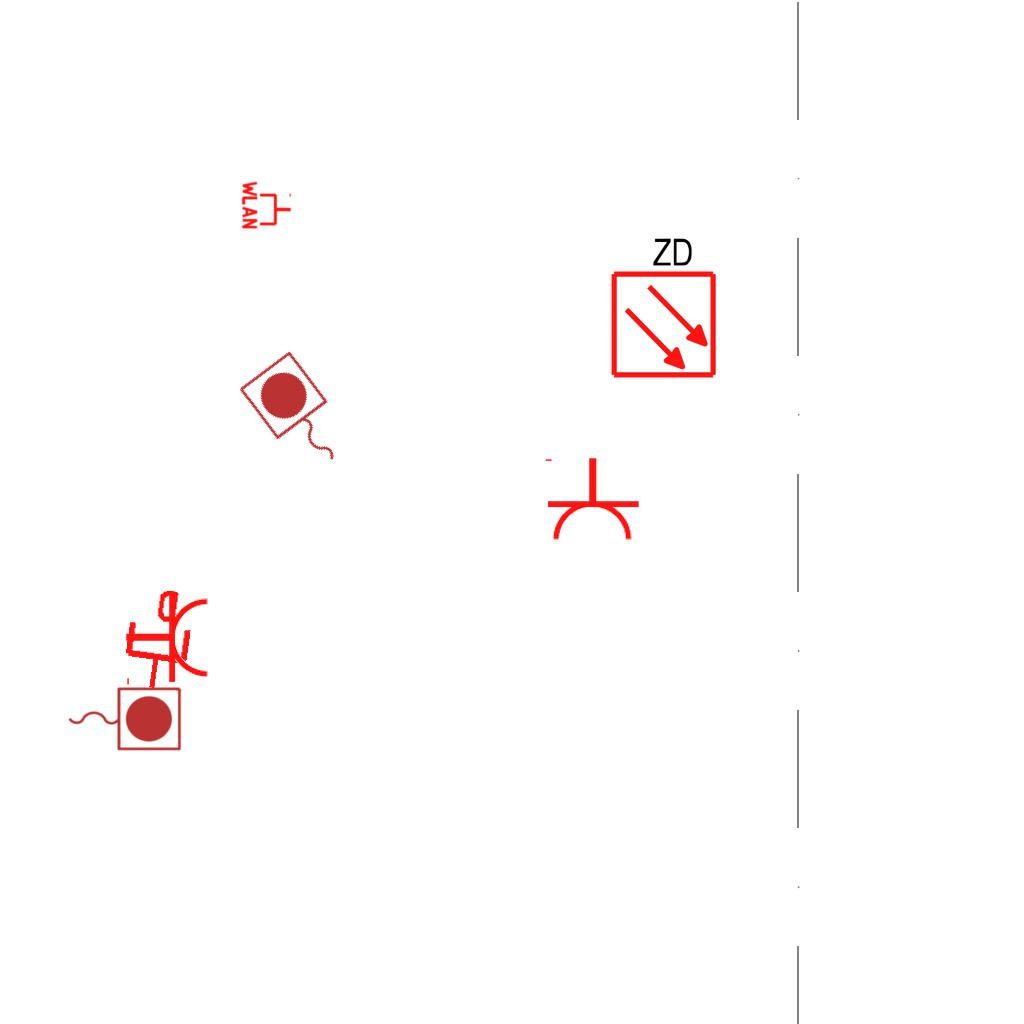Datenanschluss_einfach: (117, 585, 200, 695)
Schukosteckdose_einfach: (541, 456, 641, 543), (124, 589, 211, 689)
WLAN: (241, 179, 293, 231)
ZD_Melder_in_Zwischendecke_mit_Revisionsoeffnung_mind_40_x_40_cm: (605, 231, 719, 380)
Zugtaster: (232, 345, 364, 487), (63, 682, 185, 754)
